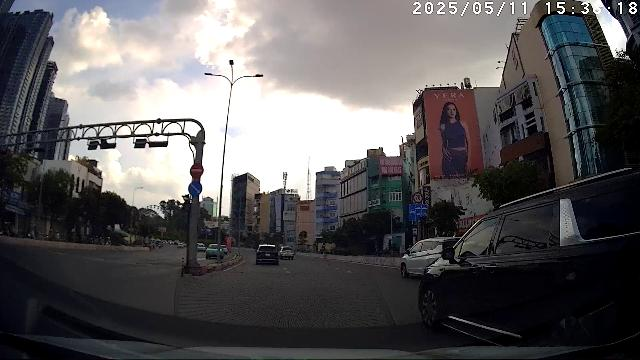102-cam-di-nguoc-chieu: (190, 163, 204, 177)
127-toc-do-toi-da-70: (413, 191, 423, 203)
302a-huong-phai-di-vong-chuong-ngai-vat-1: (188, 180, 202, 196)
